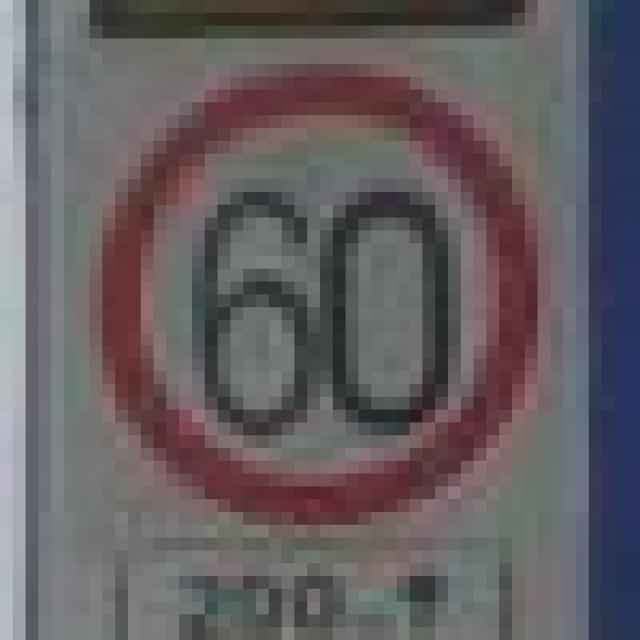SPEED_LIMIT_60: (76, 51, 538, 512)
